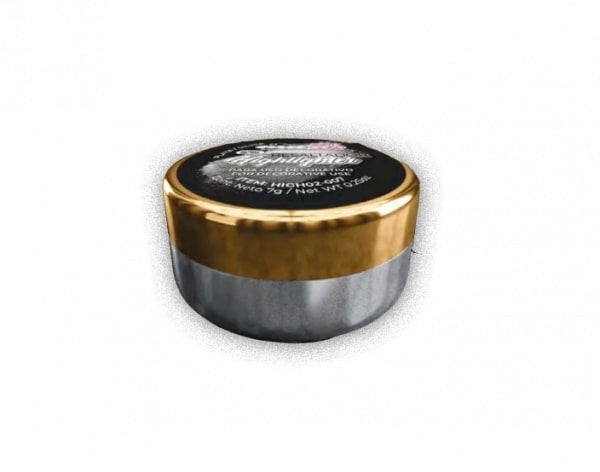metal: (162, 136, 422, 345)
